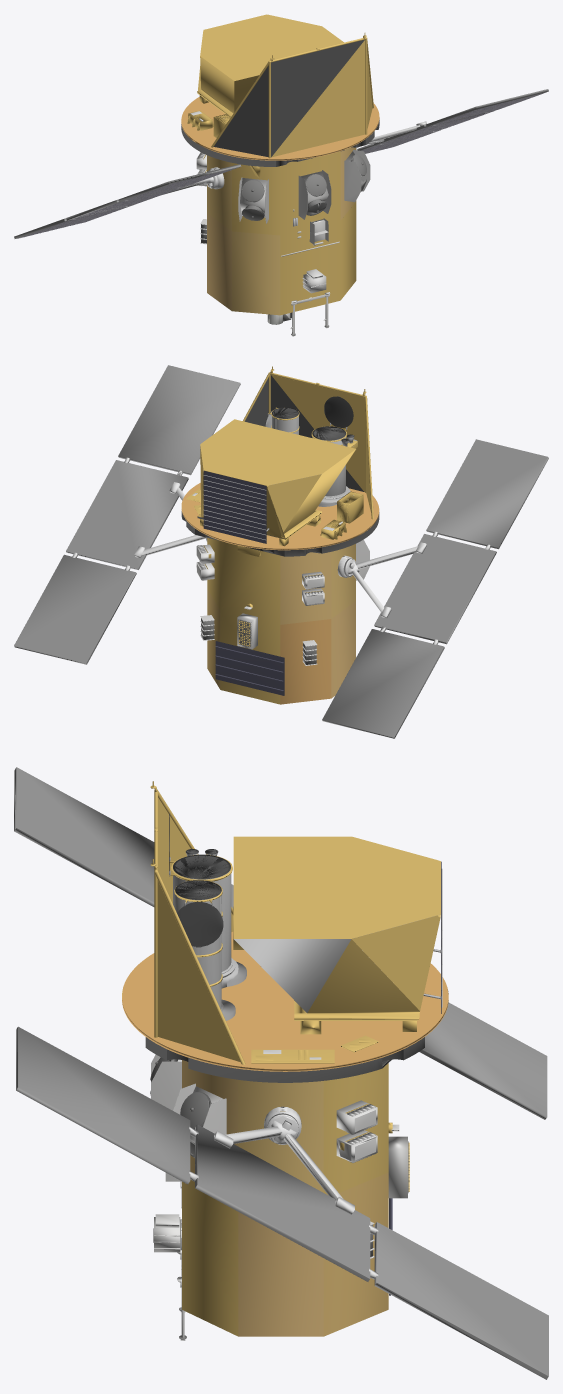
The model's file is swift.glb.
3 renders of one model, top to bottom at view 1: azimuth 30°, elevation 25°; view 2: azimuth 150°, elevation 25°; view 3: azimuth 270°, elevation 25°, orthographic. The views are drawn at different scales.
Visible parts, largest first — view 1: Fake; view 2: Fake; view 3: Fake.
Part boxes in pixels (x1=…): Fake: x1=14, y1=14, x2=548, y2=336; Fake: x1=14, y1=365, x2=548, y2=738; Fake: x1=14, y1=767, x2=548, y2=1379.
Bounding box in the file's own units: 39.92 × 29.44 × 28.26.
